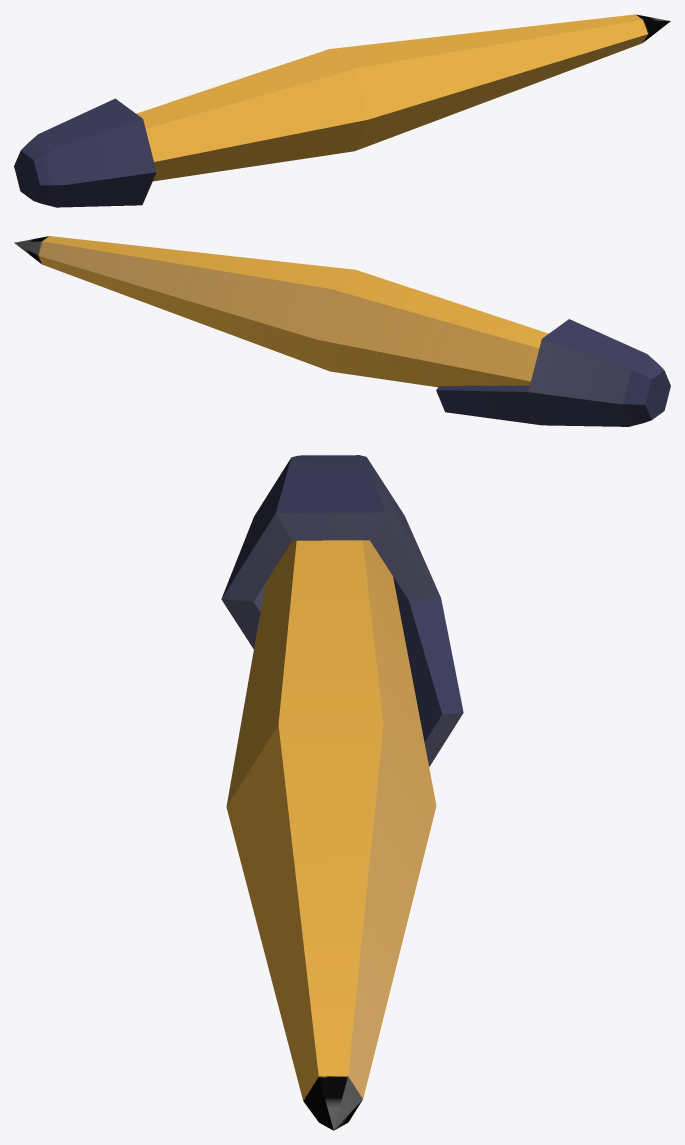
The model's file is Pencil.glb.
3 views of the same model, one above another, from view 1: azimuth 30°, elevation 25°; view 2: azimuth 150°, elevation 25°; view 3: azimuth 270°, elevation 25° (orthographic). The views are drawn at different scales.
Parts seen in each view (by area): view 1: Pencil; view 2: Pencil; view 3: Pencil.
Part boxes in pixels (x1,y1,x2,y2): Pencil: (14, 14, 670, 207); Pencil: (14, 236, 670, 426); Pencil: (221, 455, 463, 1130).
Size of the model in its own units: 0.3169 by 0.0408 by 0.0517.
1 material, 1 textured.
